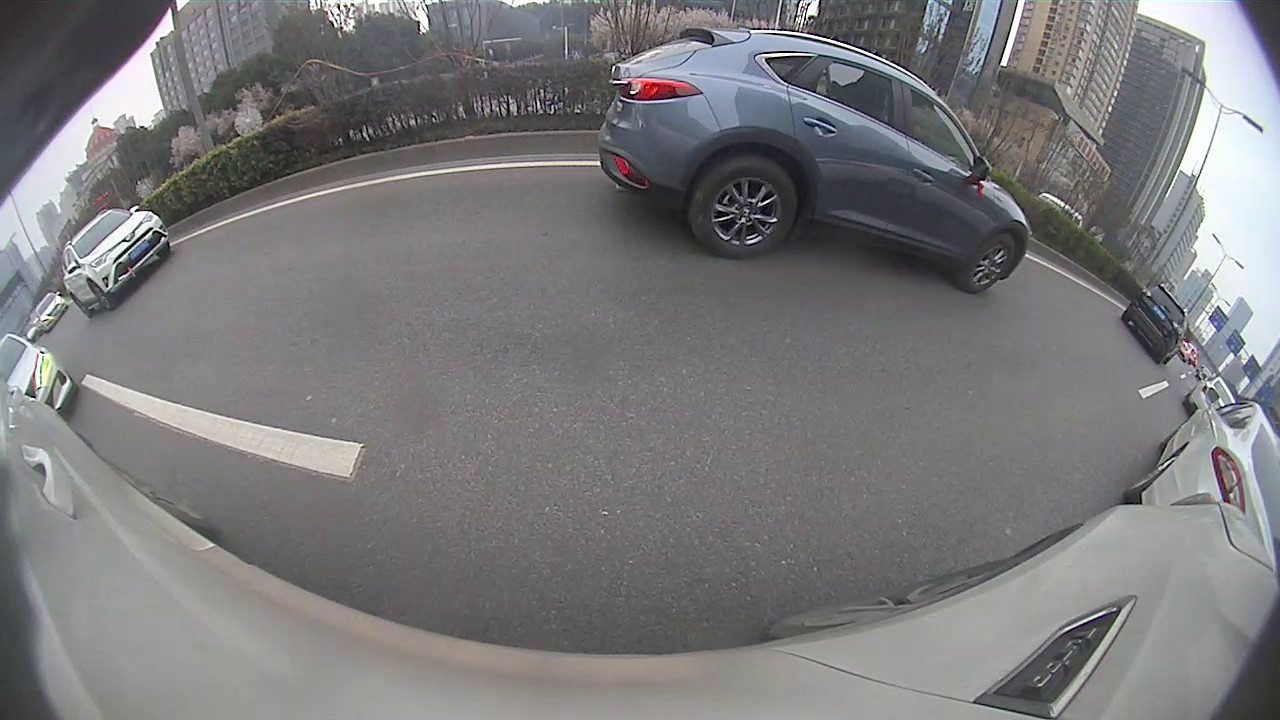car: (594, 26, 1033, 295), (1120, 384, 1278, 570), (58, 202, 173, 319), (1120, 281, 1192, 366)
front: (962, 239, 1019, 292)
rear: (688, 155, 795, 258)
